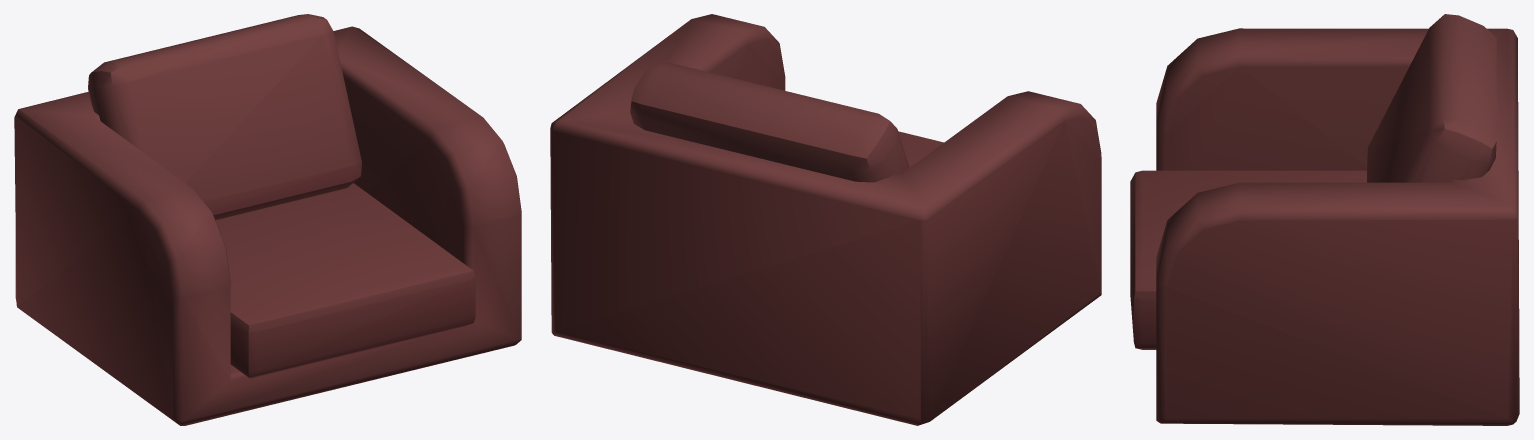
The model's file is armchair.low.2ba90805.glb.
3 views of the same model, side by side, from view 1: azimuth 30°, elevation 25°; view 2: azimuth 150°, elevation 25°; view 3: azimuth 270°, elevation 25° (orthographic). The views are drawn at different scales.
Parts seen in each view (by area): view 1: armchair; view 2: armchair; view 3: armchair.
Part boxes in pixels (x1,y1,x2,y2): armchair: (14,14,521,425); armchair: (550,14,1101,425); armchair: (1130,14,1519,425).
Bounding box in the file's own units: 0.95 × 0.6432 × 0.8445.
